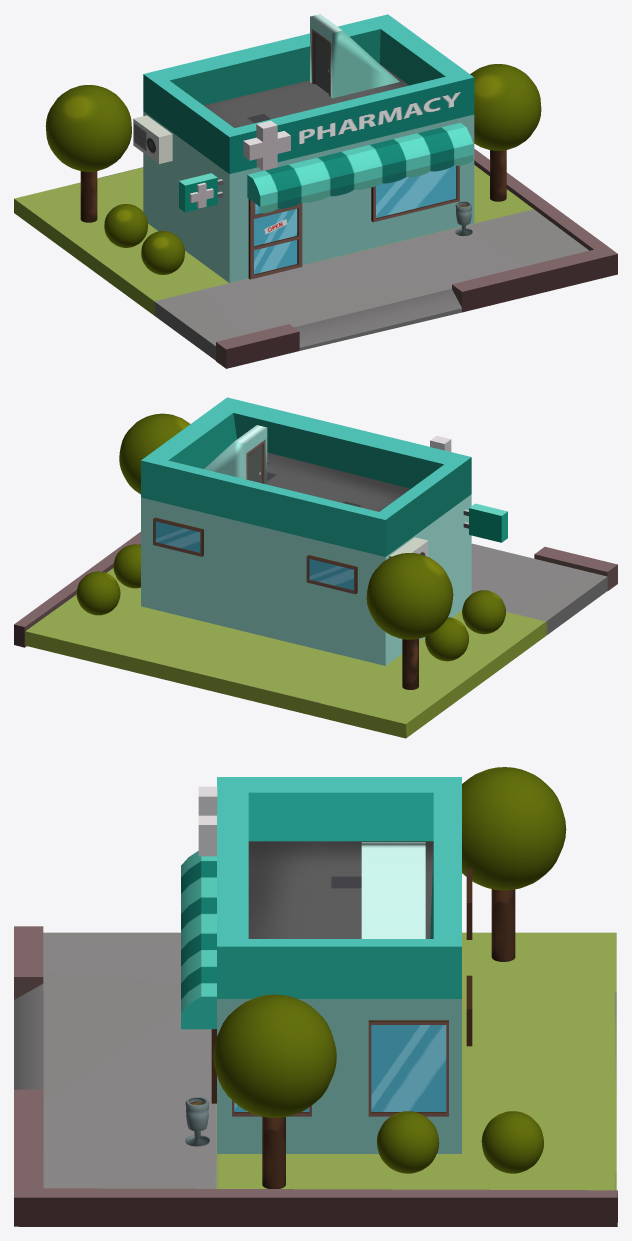
Rendered from pharmacy.glb.
The picture shows the model from 3 angles, top to bottom: view 1: azimuth 30°, elevation 25°; view 2: azimuth 150°, elevation 25°; view 3: azimuth 270°, elevation 25°; orthographic projection. The views are drawn at different scales.
Visible parts, largest first — view 1: Pharmacy_Asset1_Pharmacy_All_0_6, Awning_Pharmacy_Awning_0_4; view 2: Pharmacy_Asset1_Pharmacy_All_0_6; view 3: Pharmacy_Asset1_Pharmacy_All_0_6, Awning_Pharmacy_Awning_0_4.
Part boxes in pixels (x1,y1,x2,y2): Pharmacy_Asset1_Pharmacy_All_0_6: (14,14,617,368); Awning_Pharmacy_Awning_0_4: (247,122,473,213); Pharmacy_Asset1_Pharmacy_All_0_6: (14,397,617,738); Pharmacy_Asset1_Pharmacy_All_0_6: (14,767,617,1226); Awning_Pharmacy_Awning_0_4: (181,851,216,1029).
Size of the model in its own units: 165 by 74.62 by 150.
Materials: 2 (2 with a texture image).
